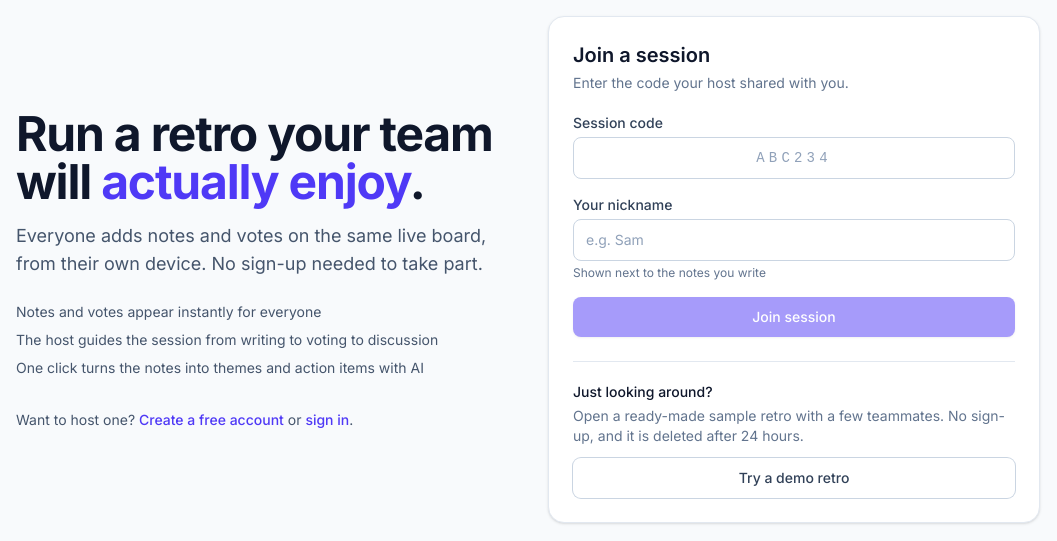
Test: JoinPage › keeps the button disabled until the code is complete and a nickname is typed
Expected: the button with test id "join-submit" is disabled, 573,297 -> 1015,337
Type "abc23" into the field with test id "code" at (794, 158), box 573,137 -> 1015,179
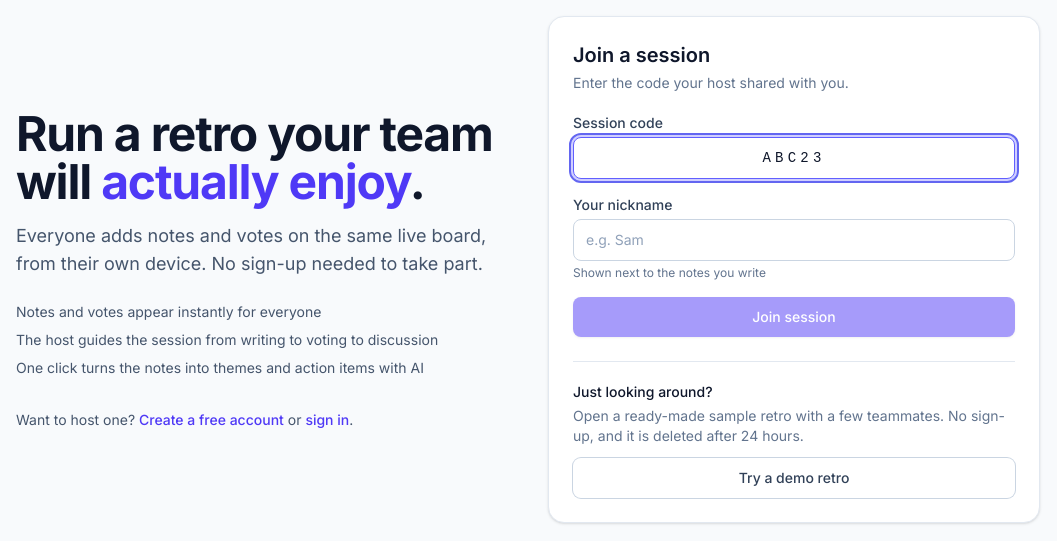
Expected: the button with test id "join-submit" is disabled, 573,297 -> 1015,337
Type "Sam" into the field with test id "nickname" at (794, 240), box 573,219 -> 1015,261
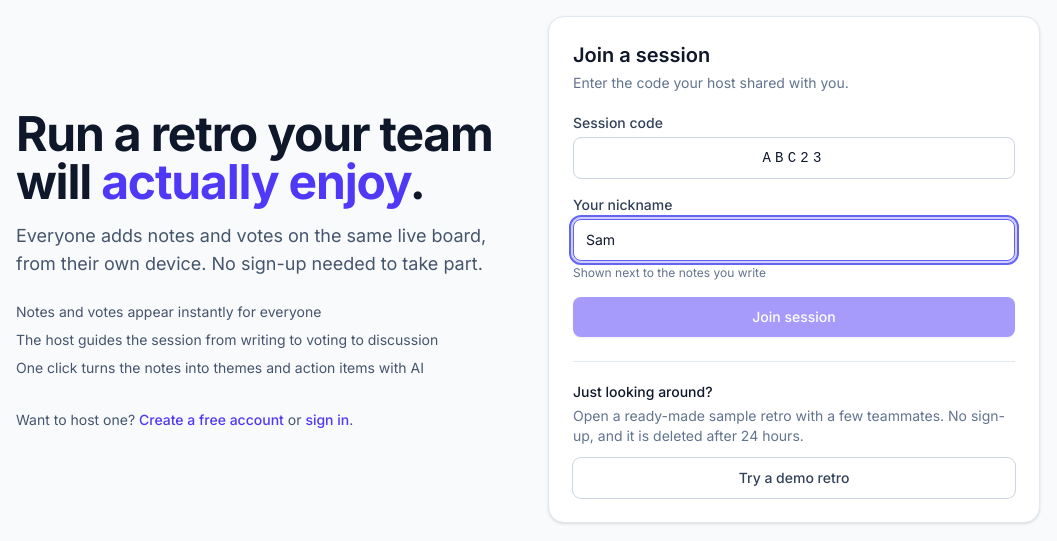
Expected: the button with test id "join-submit" is disabled, 573,297 -> 1015,337
Type "4" into the field with test id "code" at (794, 158), box 573,137 -> 1015,179
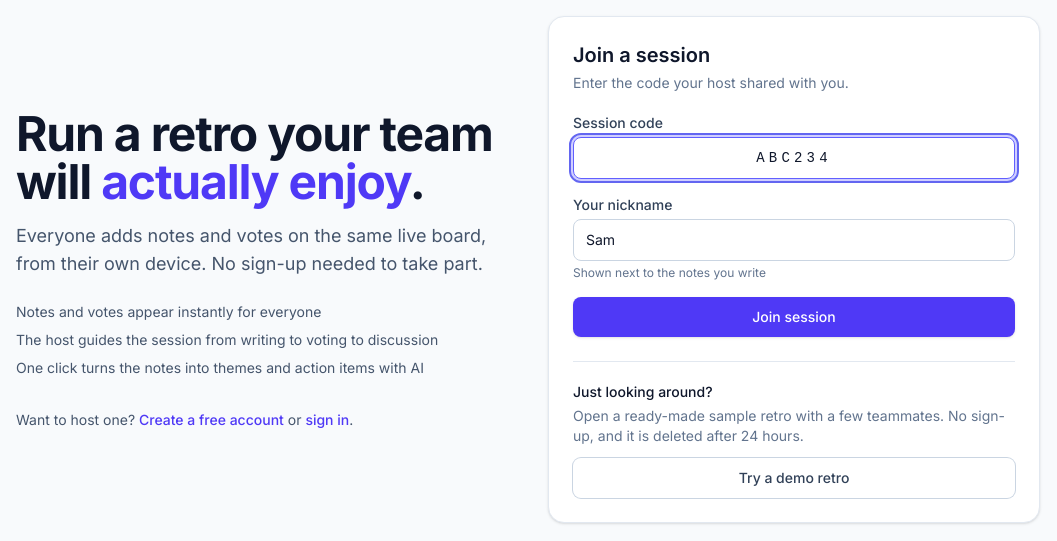
Expected: the button with test id "join-submit" is enabled, 573,297 -> 1015,337
